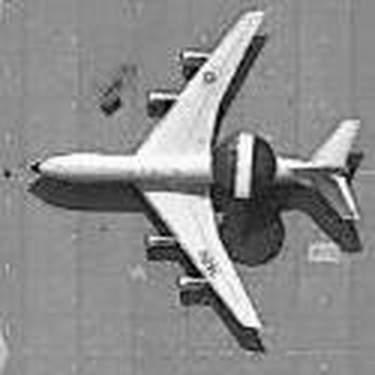airplane: (3, 4, 367, 358)
